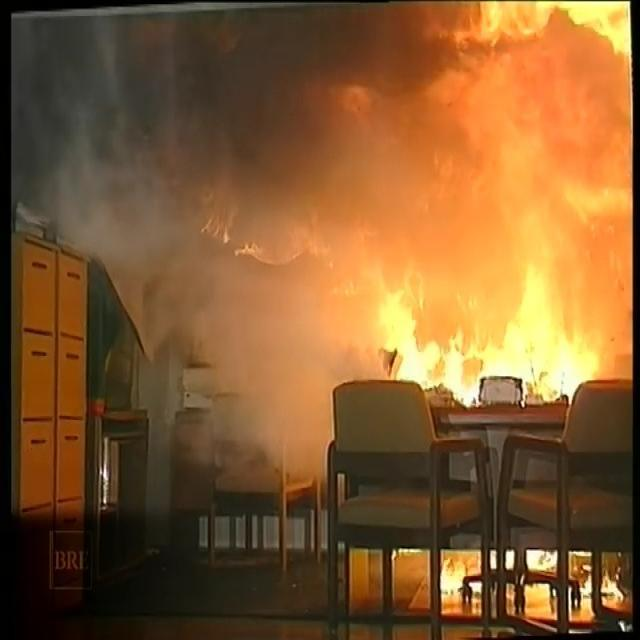Fire: (252, 6, 632, 398)
